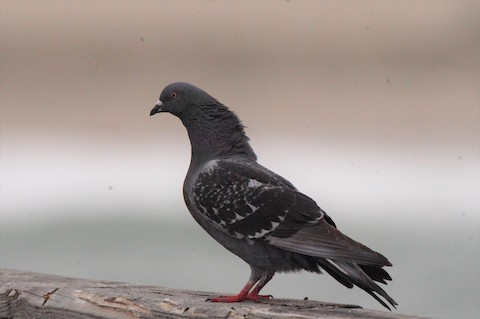pigeon: (142, 79, 404, 314)
